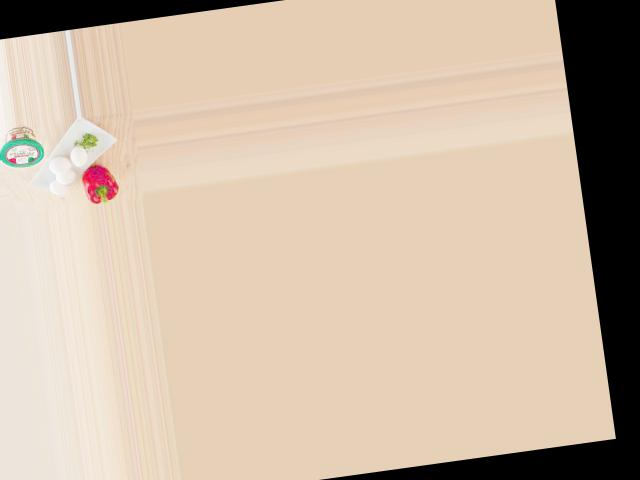bell_pepper: (74, 163, 123, 205)
